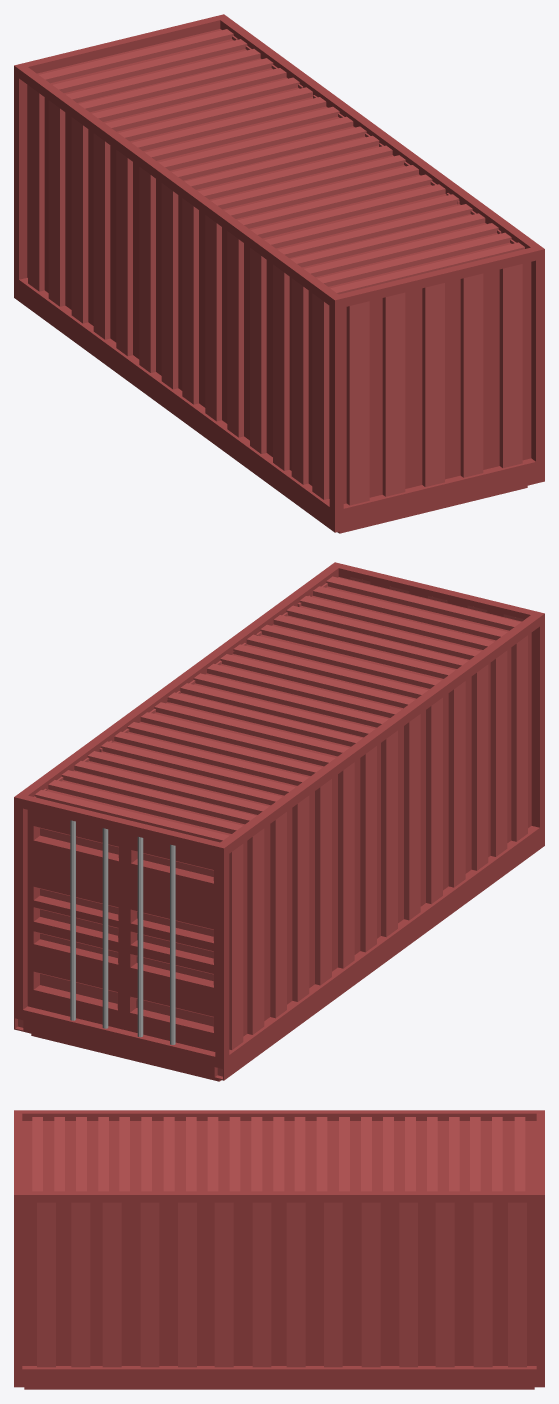
The model's file is Container.fbx.
3 renders of one model, top to bottom at view 1: azimuth 30°, elevation 25°; view 2: azimuth 150°, elevation 25°; view 3: azimuth 270°, elevation 25°, orthographic. The views are drawn at different scales.
Visible parts, largest first — view 1: pCube21; view 2: pCube21; view 3: pCube21.
Part boxes in pixels (box(x1,y1,x2,y2)): pCube21: box(14, 14, 544, 533); pCube21: box(14, 562, 544, 1081); pCube21: box(14, 1110, 544, 1389).
Size of the model in its own units: 2.11 by 2.31 by 5.59.
